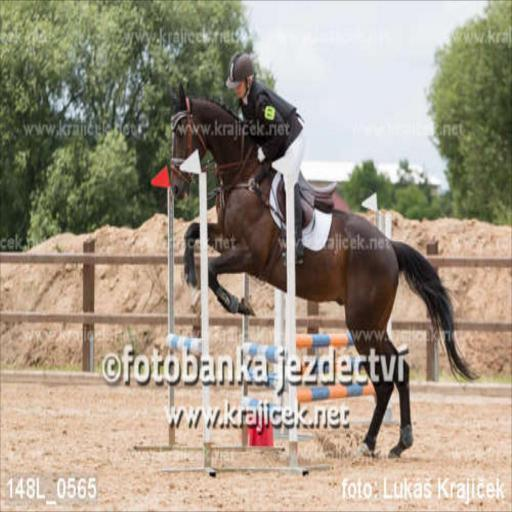horse: (168, 78, 482, 460)
